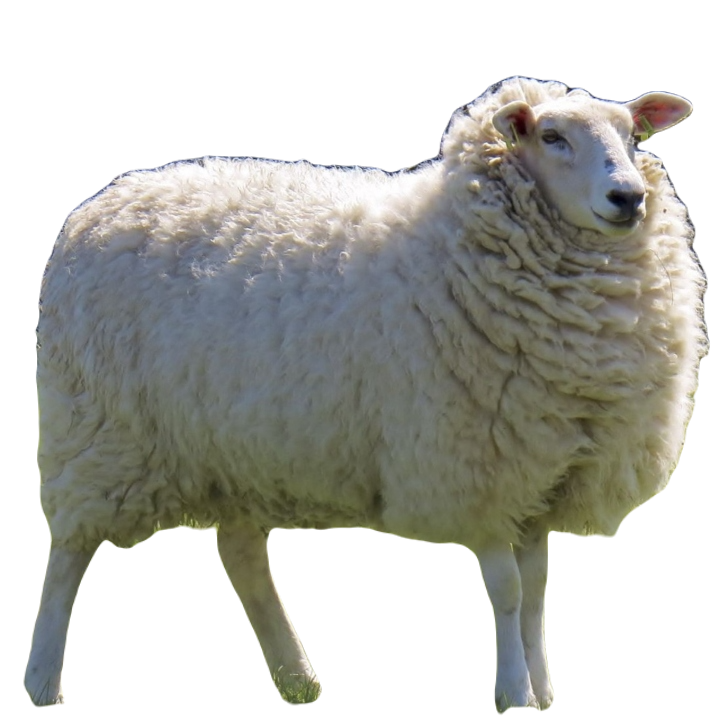Sheep: (20, 72, 713, 715)
